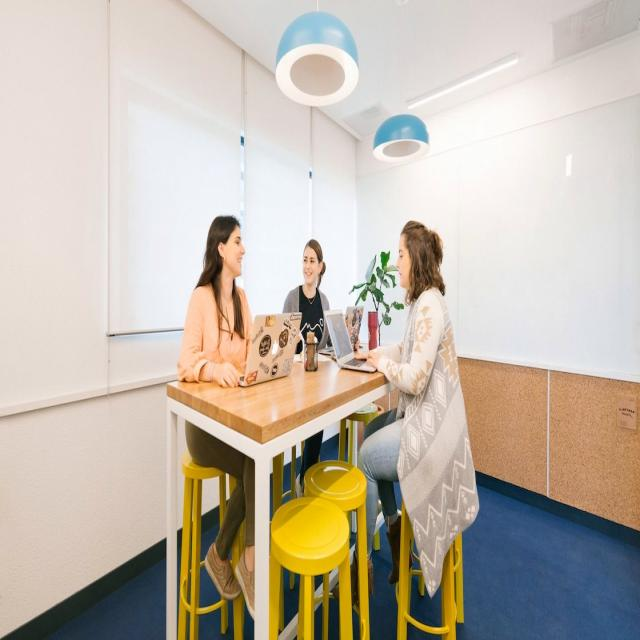adult: (347, 216, 463, 618), (174, 213, 262, 618), (278, 231, 332, 362)
